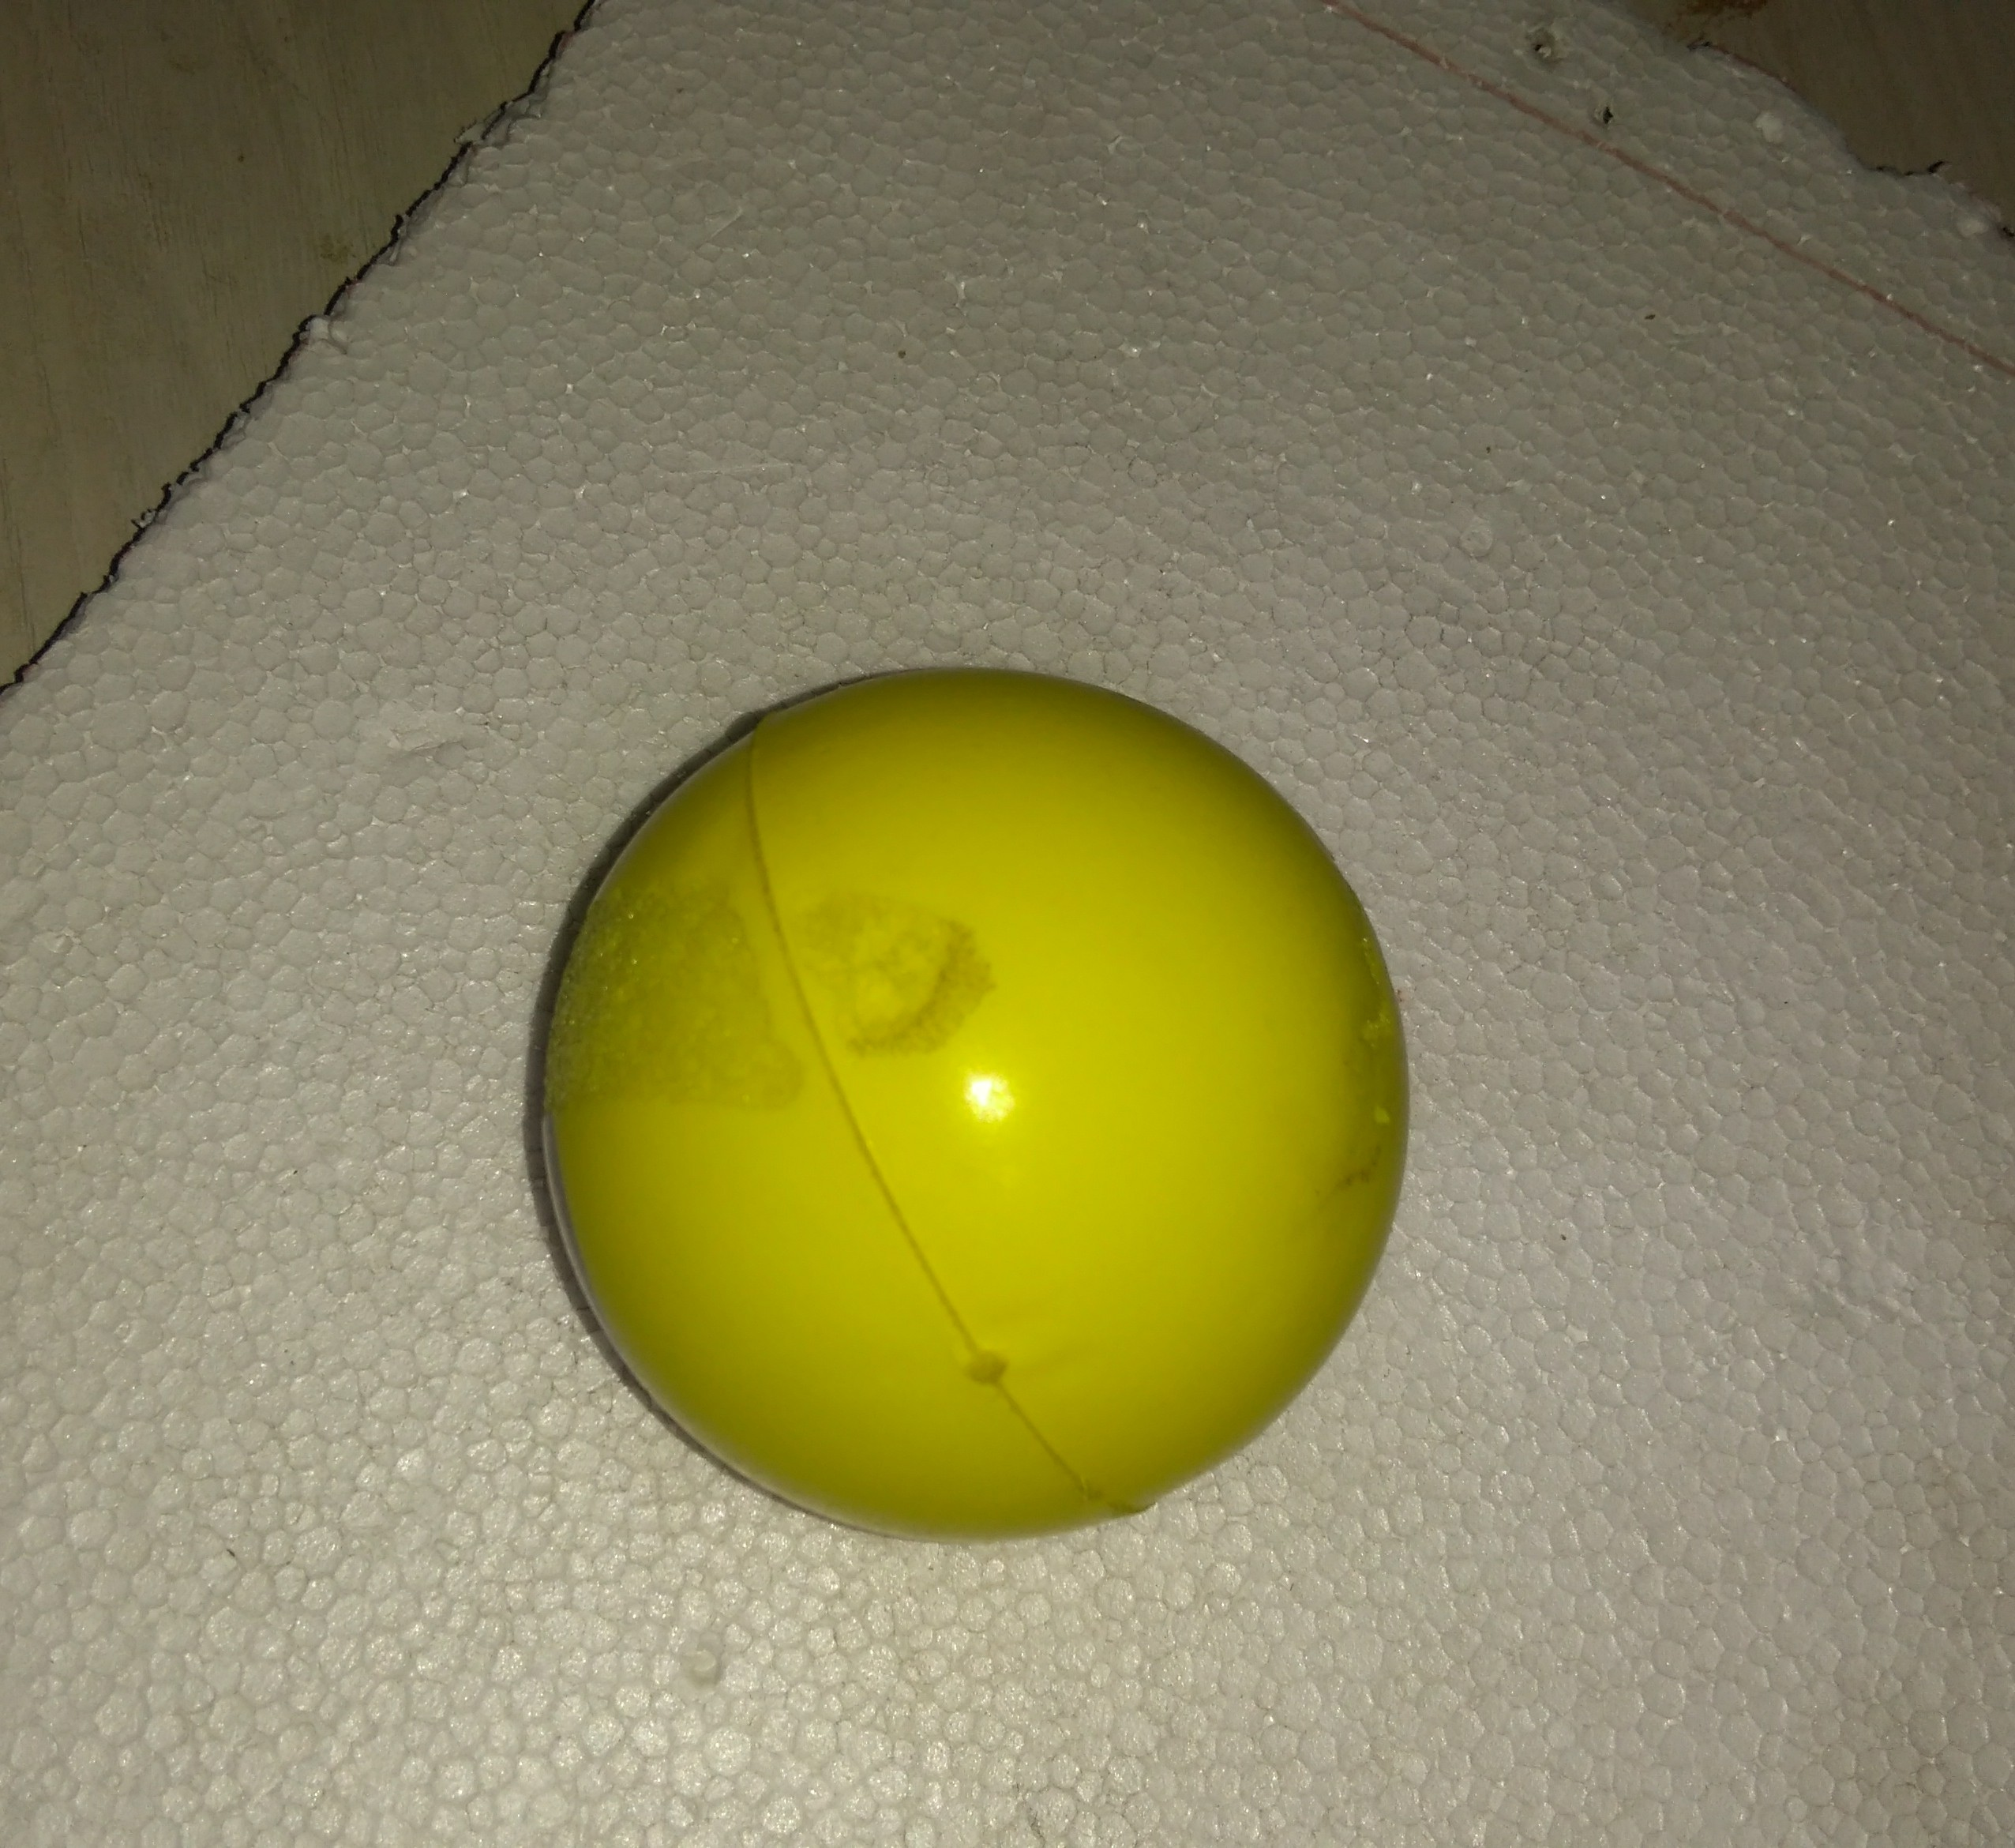ball: (525, 663, 1420, 1572)
